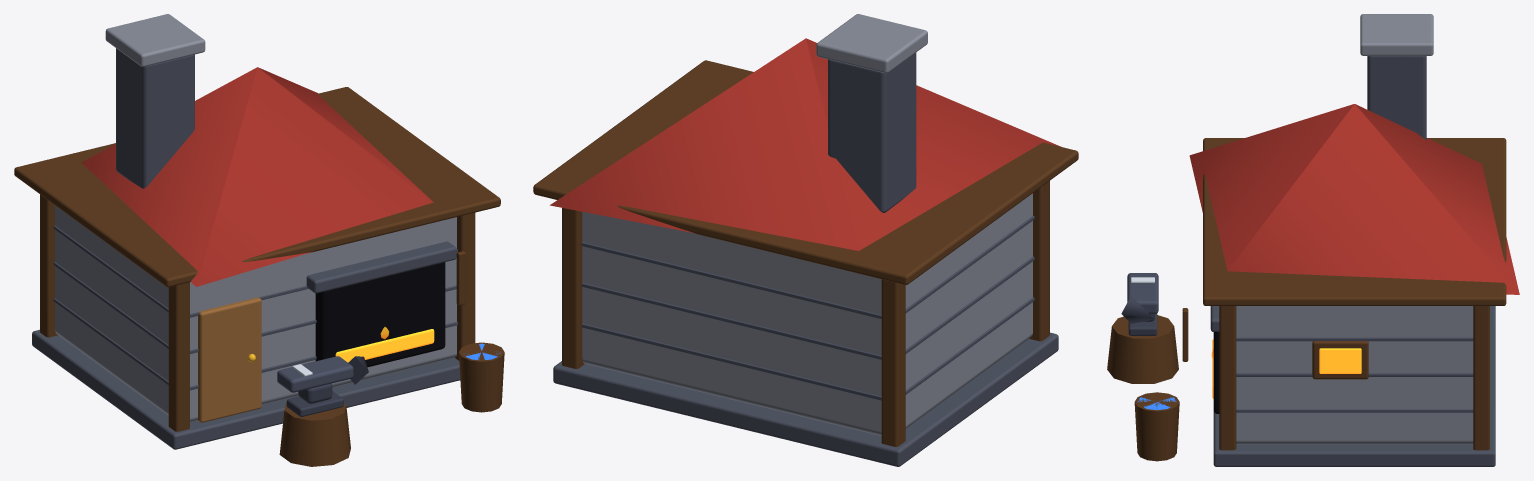
The model's file is prop_forge.glb.
3 views of the same model, side by side, from view 1: azimuth 30°, elevation 25°; view 2: azimuth 150°, elevation 25°; view 3: azimuth 270°, elevation 25° (orthographic). The views are drawn at different scales.
Parts seen in each view (by area): view 1: Roof, Walls, Eaves, Foundation, HearthOpening, Chimney, Door, Stump, ChimneyCap, Beam2, HearthLintel, WaterBarrel (+9 smaller); view 2: Walls, Roof, Eaves, Foundation, Chimney, ChimneyCap, Beam0, Beam1, Beam2, Course1, Course3, Course2; view 3: Roof, Walls, Eaves, Foundation, Chimney, Stump, ChimneyCap, WaterBarrel, Beam3, Beam1, WindowFrame, Course3 (+7 smaller).
Part boxes in pixels (x1,y1,x2,y2): Roof: [81, 67, 433, 286]; Walls: [55, 205, 456, 421]; Eaves: [14, 87, 500, 287]; Foundation: [32, 329, 460, 449]; HearthOpening: [315, 262, 445, 367]; Chimney: [116, 48, 194, 188]; Door: [197, 297, 261, 422]; Stump: [279, 396, 350, 466]; ChimneyCap: [105, 14, 205, 66]; Beam2: [168, 282, 189, 431]; HearthLintel: [306, 241, 456, 293]; WaterBarrel: [459, 342, 504, 412]; Walls: [582, 193, 1032, 435]; Roof: [550, 38, 1061, 250]; Eaves: [533, 60, 1078, 284]; Foundation: [553, 332, 1058, 466]; Chimney: [828, 52, 916, 212]; ChimneyCap: [816, 14, 927, 73]; Beam0: [881, 279, 905, 446]; Beam1: [562, 208, 584, 368]; Beam2: [1029, 181, 1049, 341]; Course1: [581, 297, 1034, 400]; Course3: [581, 216, 1034, 318]; Course2: [581, 256, 1034, 359]; Roof: [1189, 104, 1519, 294]; Walls: [1236, 306, 1473, 444]; Eaves: [1203, 138, 1506, 305]; Foundation: [1213, 306, 1495, 466]; Chimney: [1367, 56, 1426, 139]; Stump: [1107, 315, 1178, 383]; ChimneyCap: [1360, 14, 1433, 55]; WaterBarrel: [1134, 392, 1179, 461]; Beam3: [1219, 306, 1236, 450]; Beam1: [1473, 306, 1489, 450]; WindowFrame: [1312, 341, 1368, 379]; Course3: [1236, 337, 1473, 341].
Size of the model in its own units: 2.7 by 2.55 by 2.93.
